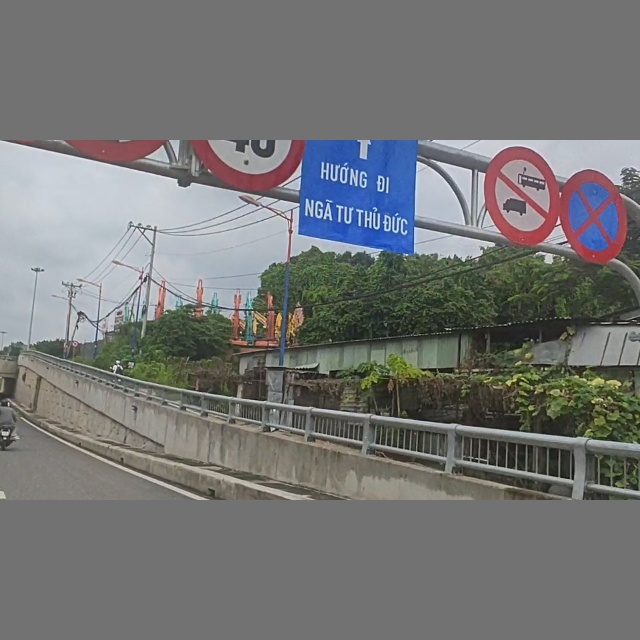P.107: (483, 145, 559, 247)
P.130: (561, 169, 628, 265)
